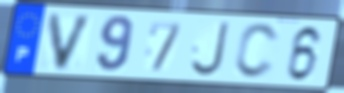6: (287, 24, 323, 83)
7: (147, 20, 183, 72)
9: (94, 13, 135, 76)
C: (232, 21, 281, 81)
J: (188, 20, 232, 79)
V: (46, 12, 97, 73)
